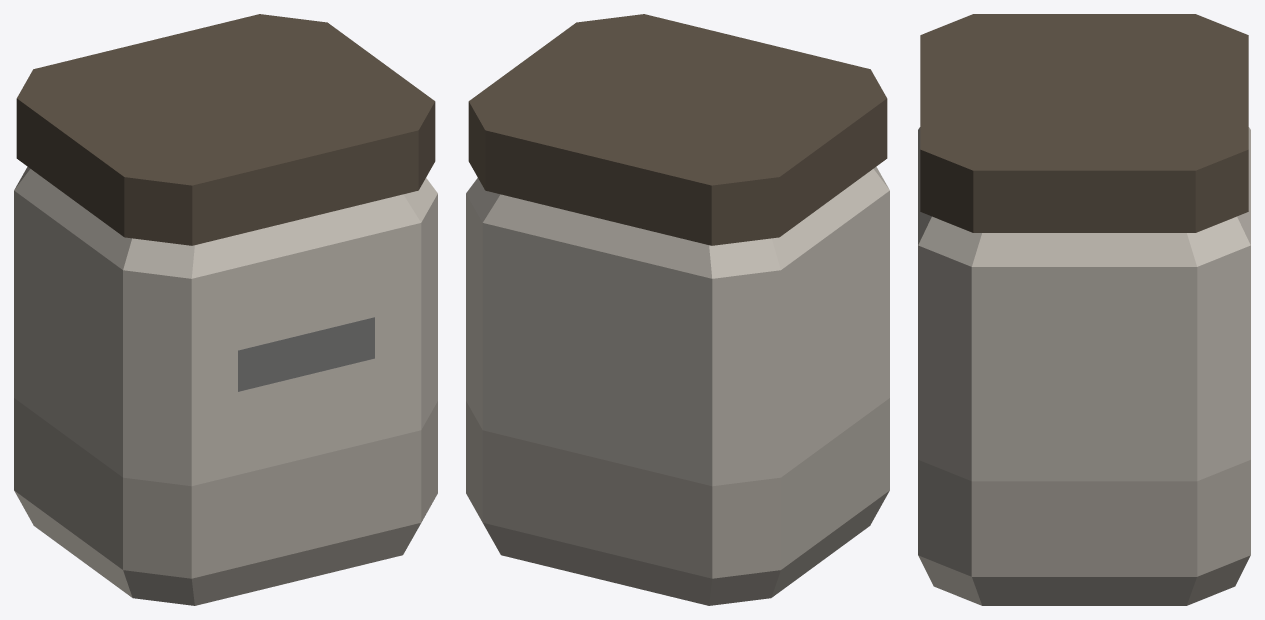
The model's file is SM_Prop_Jar_01.fbx.
3 views of the same model, side by side, from view 1: azimuth 30°, elevation 25°; view 2: azimuth 150°, elevation 25°; view 3: azimuth 270°, elevation 25° (orthographic). The views are drawn at different scales.
Visible parts, largest first — view 1: SM_Prop_Jar_01; view 2: SM_Prop_Jar_01; view 3: SM_Prop_Jar_01.
Part boxes in pixels (x1,y1,x2,y2): SM_Prop_Jar_01: (14,14,437,605); SM_Prop_Jar_01: (466,14,889,605); SM_Prop_Jar_01: (918,14,1250,605).
Bounding box in the file's own units: 18.79 × 24.36 × 16.64.
